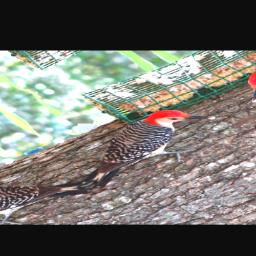Woodpecker: (43, 99, 248, 194)
